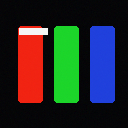3 line_h: (19, 28, 47, 34)
